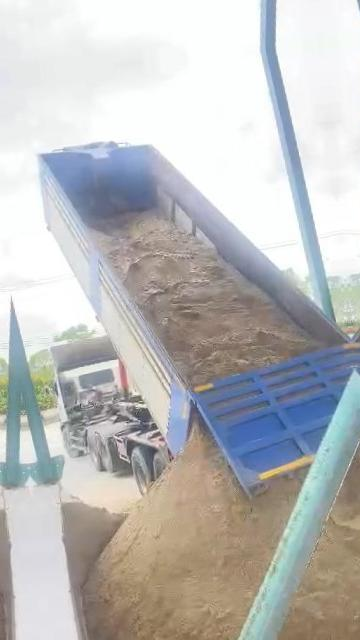sand: (84, 433, 300, 640), (91, 211, 323, 384), (279, 463, 360, 640), (63, 497, 125, 588)
